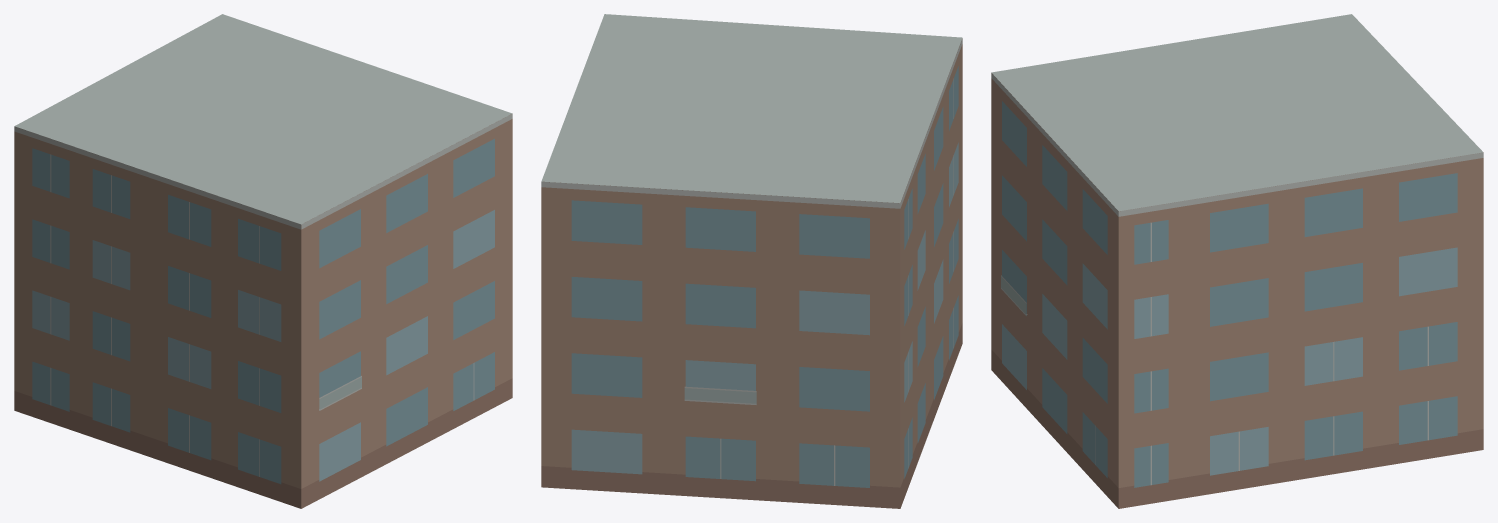
File: survey-upis-32487575.glb
The picture shows the model from 3 angles, left to right: view 1: azimuth 30°, elevation 25°; view 2: azimuth 150°, elevation 25°; view 3: azimuth 270°, elevation 25°; orthographic projection. The views are drawn at different scales.
Parts seen in each view (by area): view 1: survey-upis-32487575.tmp; view 2: survey-upis-32487575.tmp; view 3: survey-upis-32487575.tmp.
Part boxes in pixels (x1,y1,x2,y2): survey-upis-32487575.tmp: [14, 14, 512, 508]; survey-upis-32487575.tmp: [541, 14, 962, 508]; survey-upis-32487575.tmp: [991, 14, 1483, 508].
Size of the model in its own units: 18.94 by 13.3 by 19.96.
